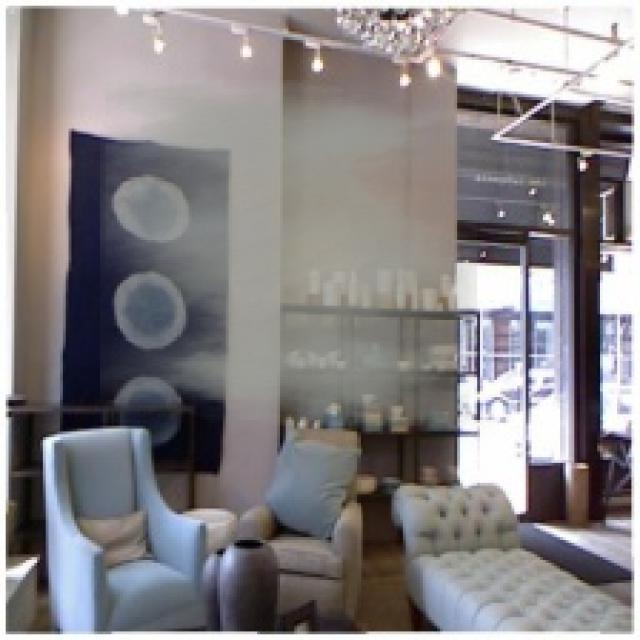smoke: (100, 80, 477, 426)
